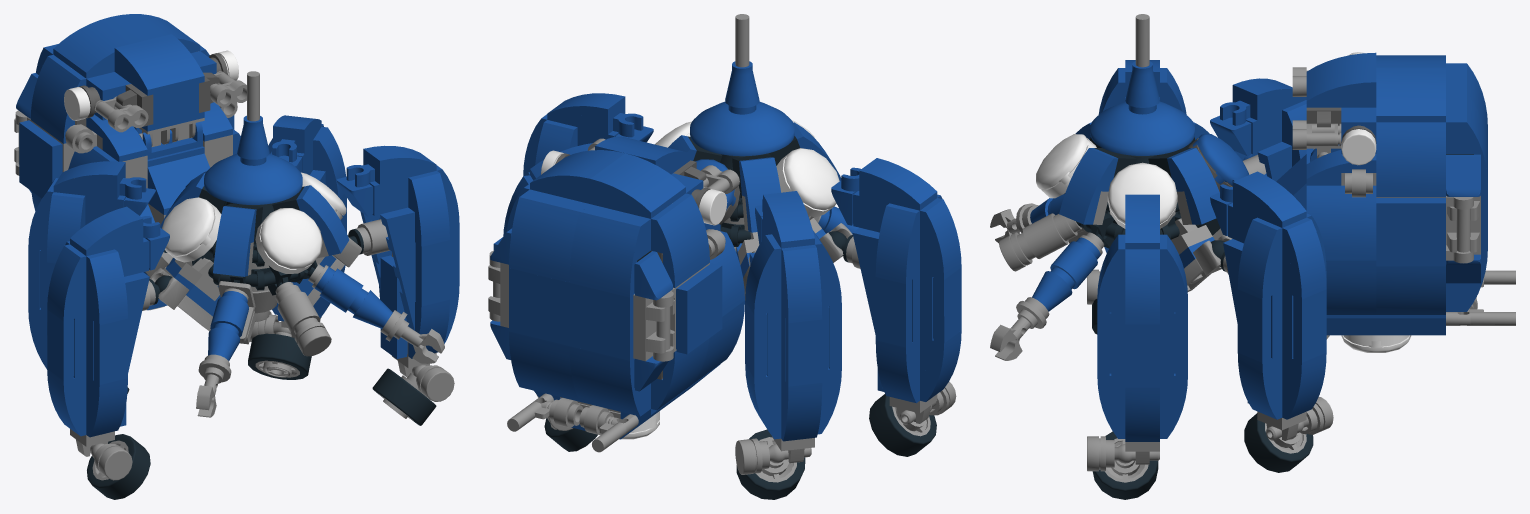
File: tachikoma.dae
3 renders of one model, left to right at view 1: azimuth 30°, elevation 25°; view 2: azimuth 150°, elevation 25°; view 3: azimuth 270°, elevation 25°, orthographic. The views are drawn at different scales.
Bounding box in the file's own units: 278 × 301 × 255.
